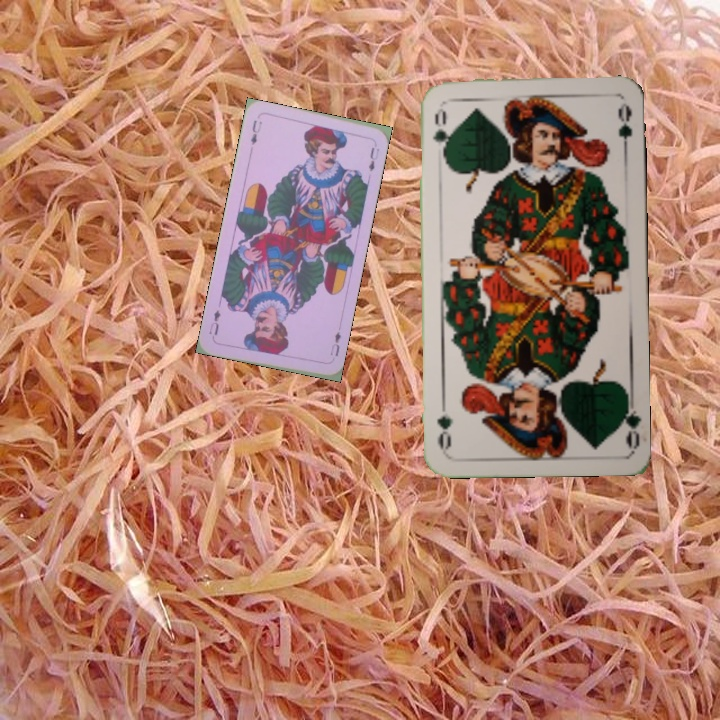EU: (246, 116, 265, 147), (326, 327, 344, 359)
GO: (615, 390, 642, 449), (428, 104, 451, 162)
